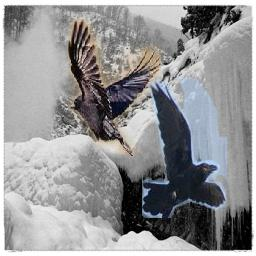Crow: (69, 20, 162, 157), (143, 78, 228, 218)
